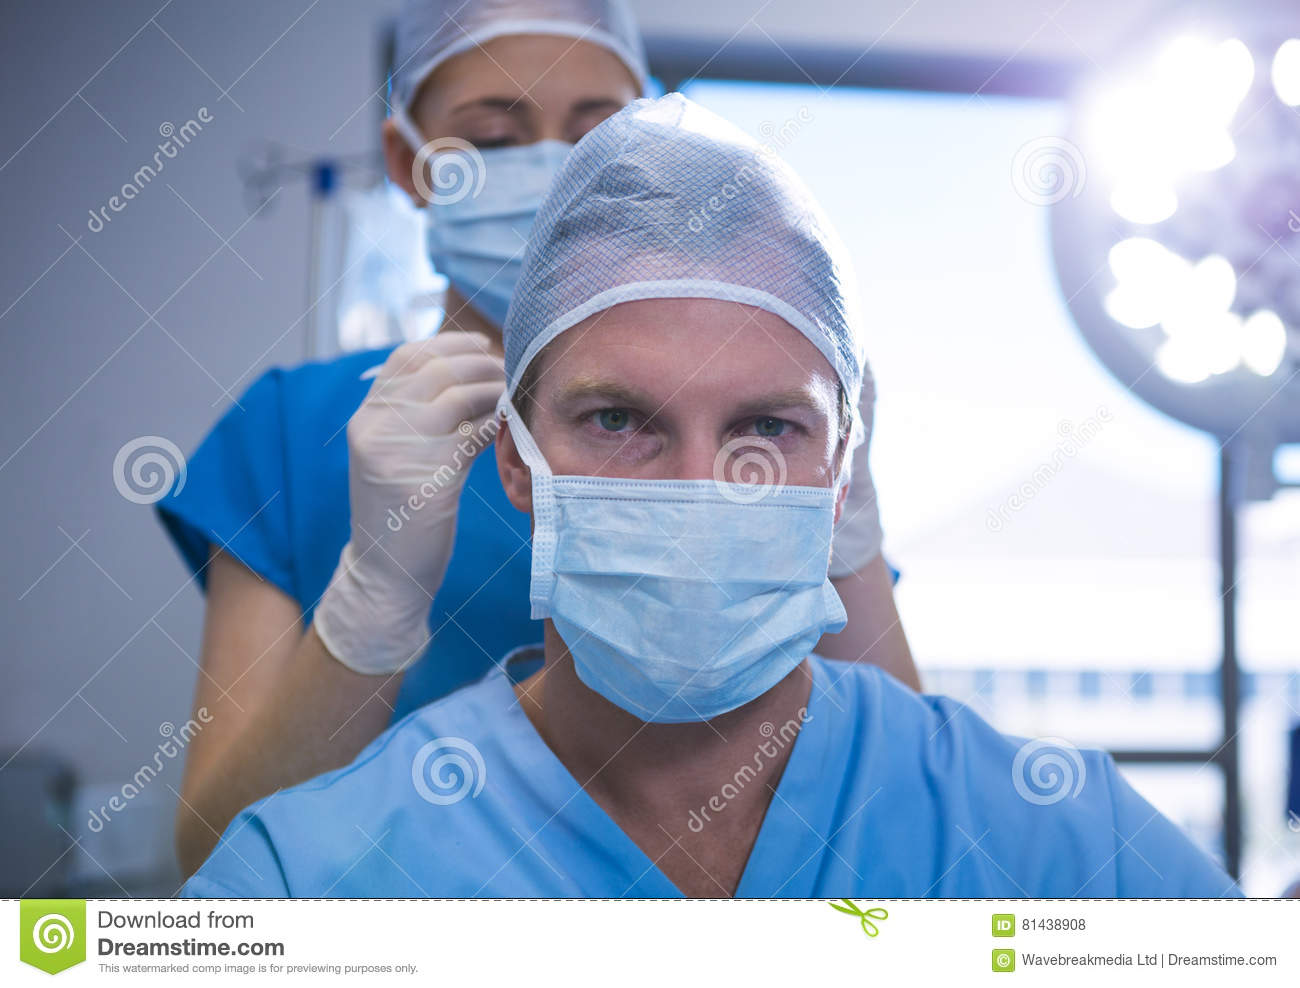mask: (543, 460, 837, 744)
